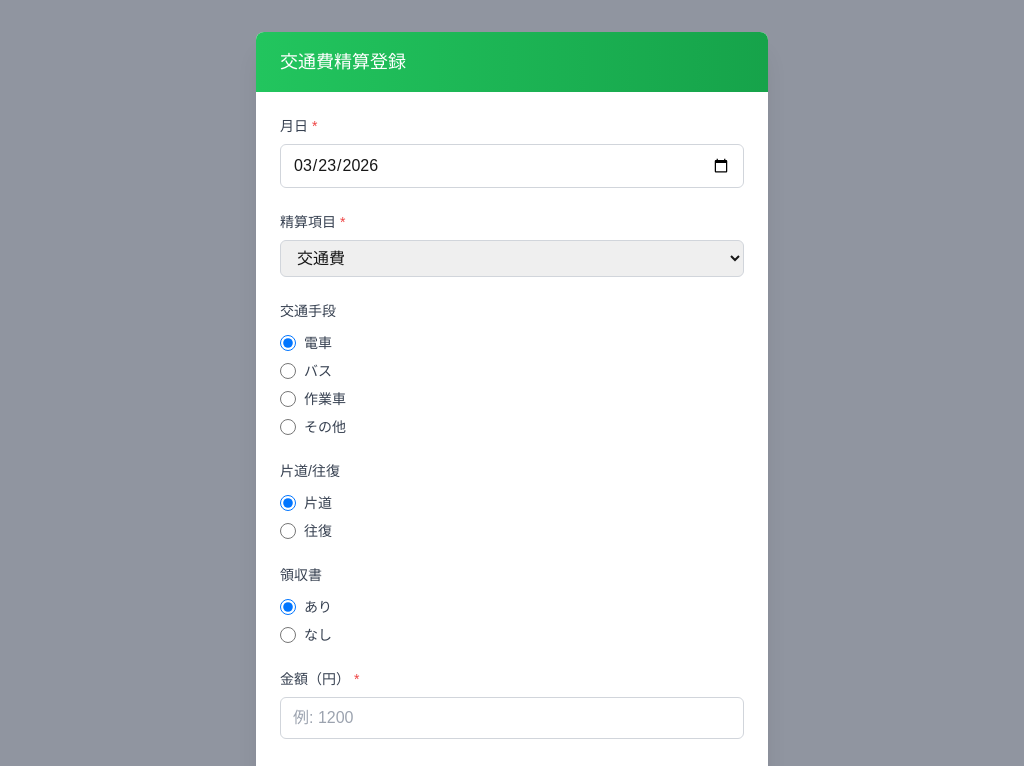
Test case: ExpenseModal — バリデーション › 金額が0のとき「1円以上の金額を入力してください」が表示される
Clear the number field labelled "金額（円） *": (512, 718) [280,697,744,739]
(page scrolled)
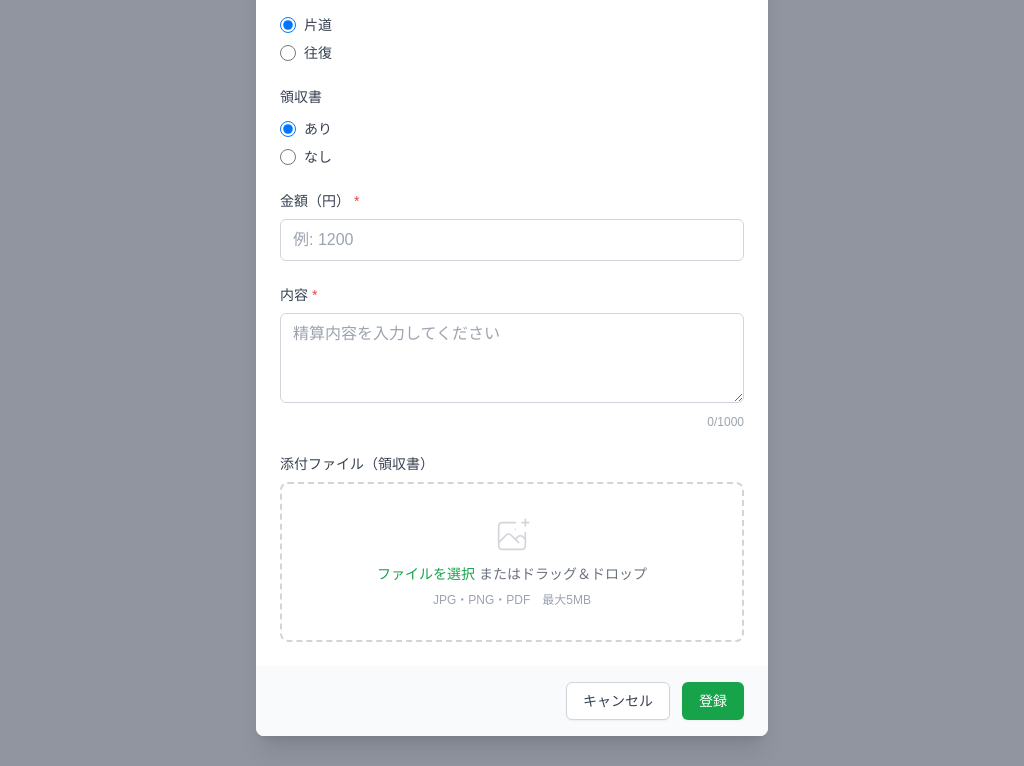
Click the button "登録": (713, 701) [682,682,744,720]
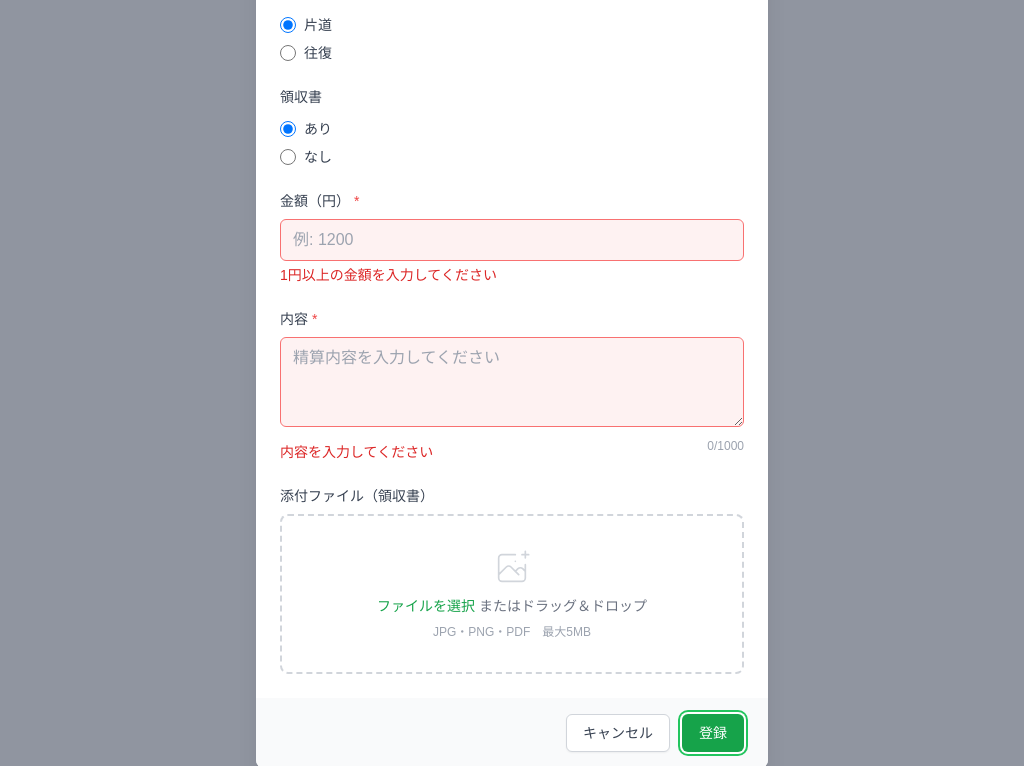
expect the text "1円以上の金額を入力してください" is shown: met, box [280,267,497,283]
